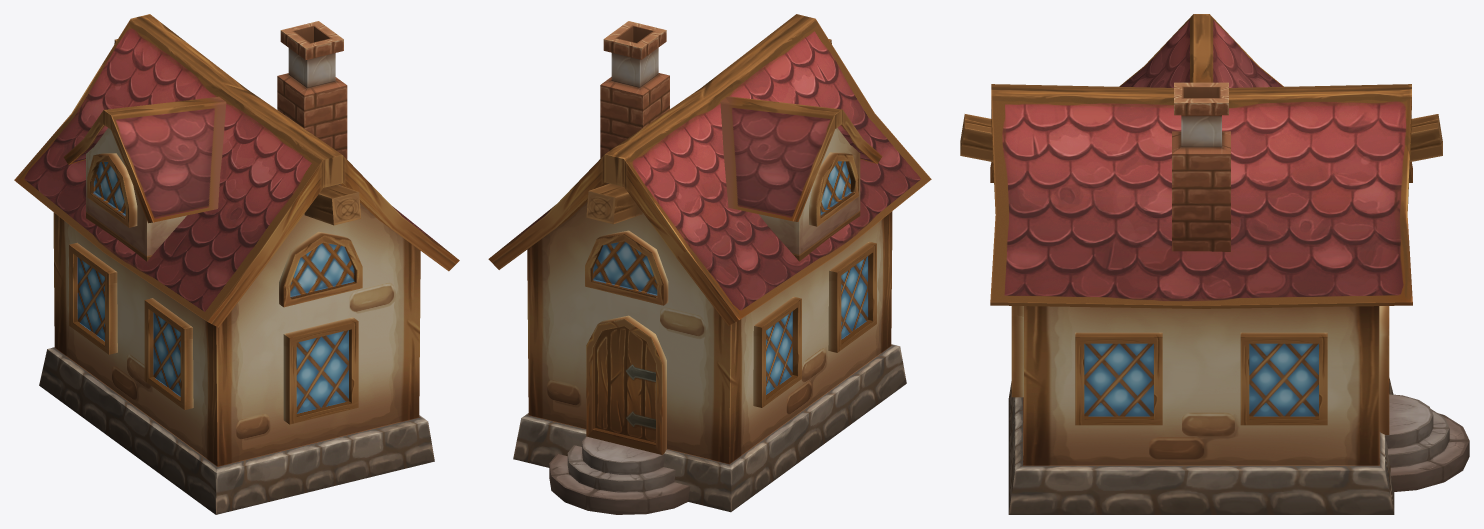
File: Small_house.FBX
3 renders of one model, left to right at view 1: azimuth 30°, elevation 25°; view 2: azimuth 150°, elevation 25°; view 3: azimuth 270°, elevation 25°, orthographic. The views are drawn at different scales.
Parts seen in each view (by area): view 1: Small_house; view 2: Small_house; view 3: Small_house.
Part boxes in pixels (x1,y1,x2,y2): Small_house: [14, 14, 459, 514]; Small_house: [488, 14, 931, 514]; Small_house: [960, 14, 1469, 514].
Bounding box in the file's own units: 527 × 802 × 702.
